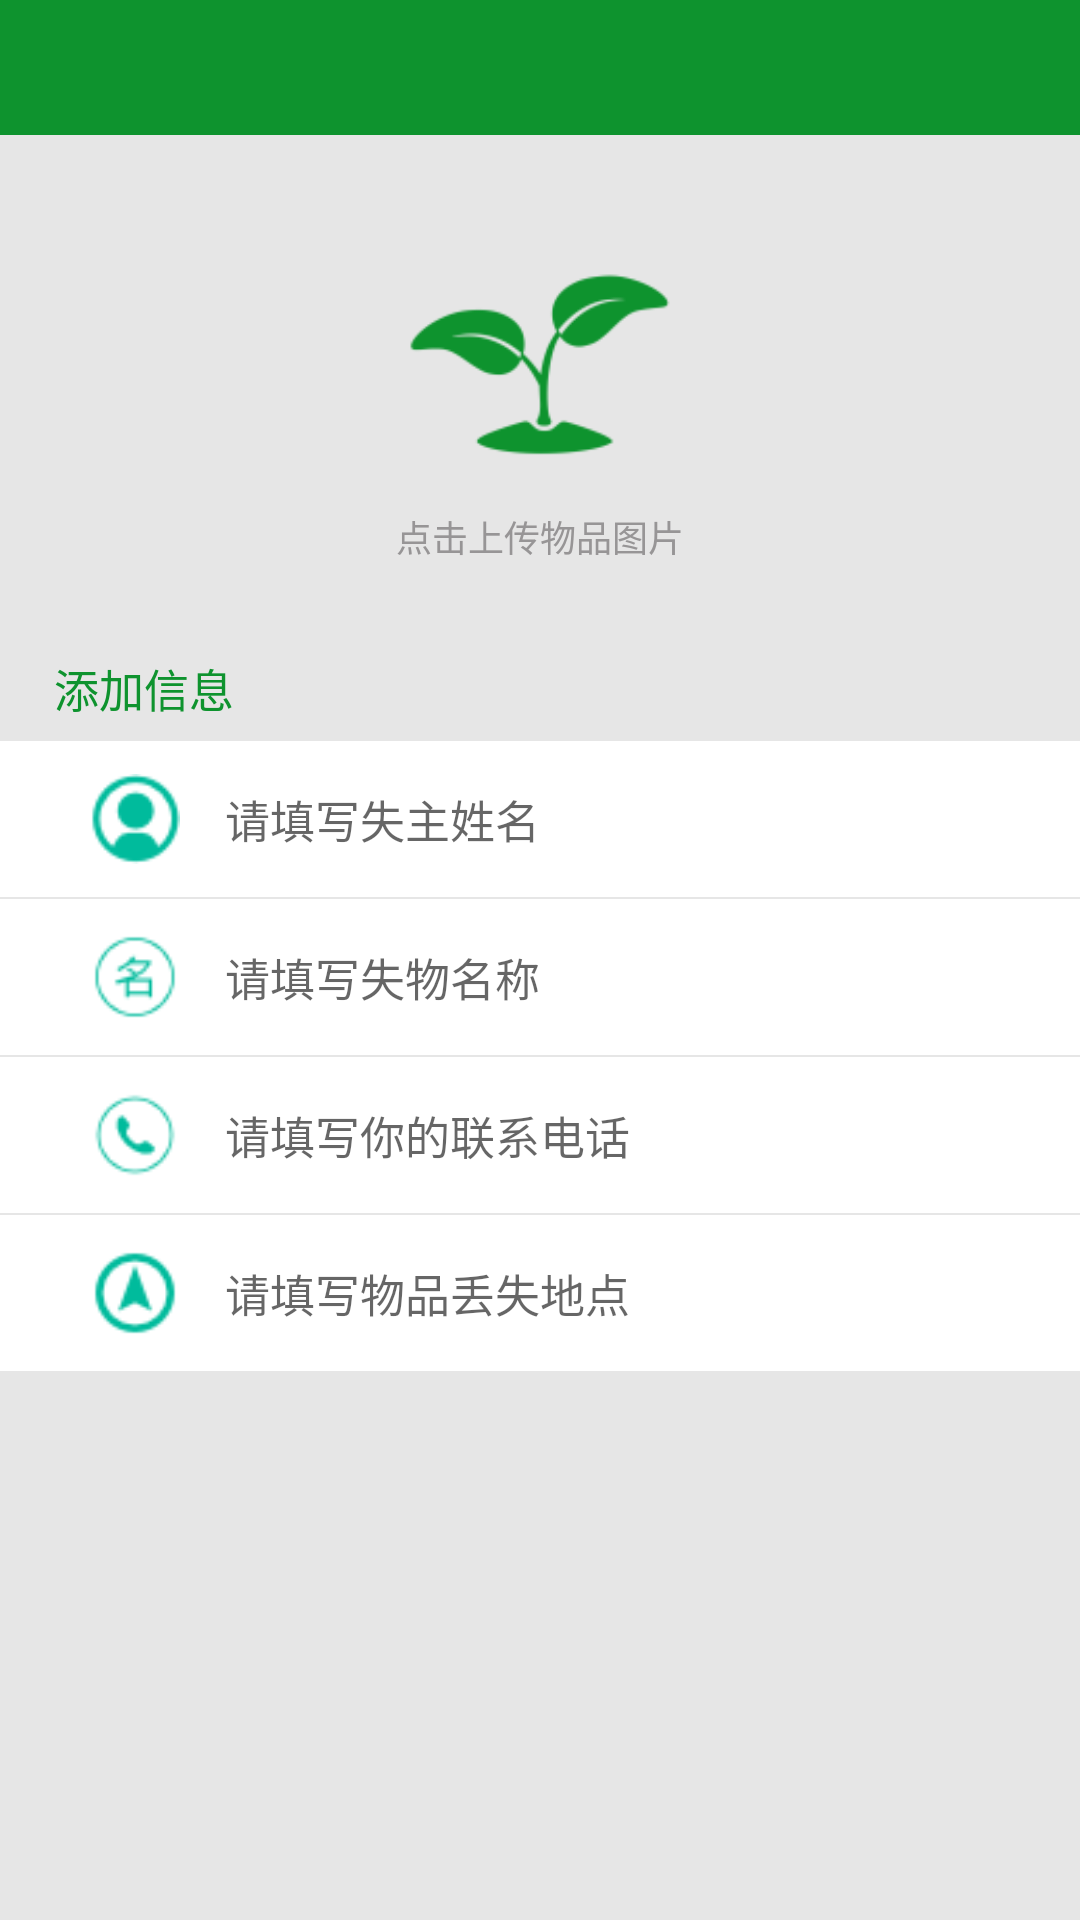

Named icons in this screenshot (1080*1920) and their bounding boxes, (x1, y1, x2, y2):
tel: (95, 1095, 175, 1175)
weizhi: (95, 1252, 176, 1333)
